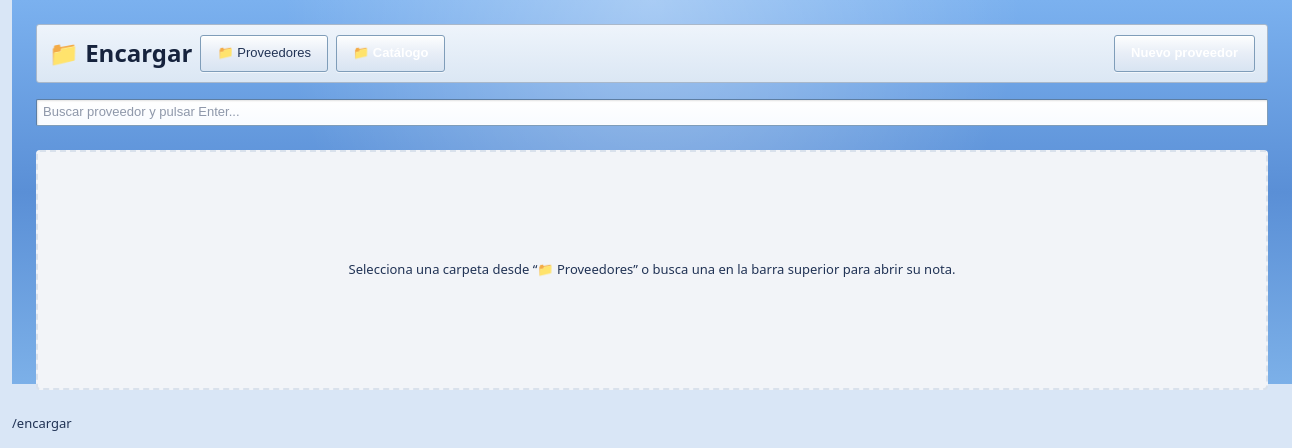
Test: Encargar flow routing › keeps multiple proveedores open at the same time
What coordinates should you click on to do the following:
click the button "📁 Proveedores"
I would click on:
 (264, 53)
Its box is [200,35,328,72].
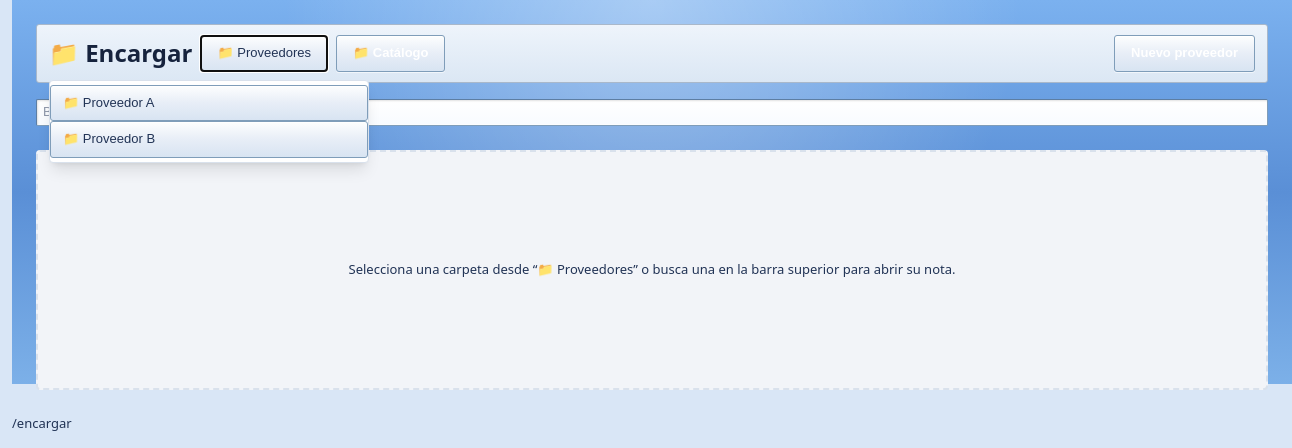
What coordinates should you click on to do the following:
click the menu item "📁 Proveedor A"
I would click on:
 (109, 102)
Its box is [50,85,368,121].
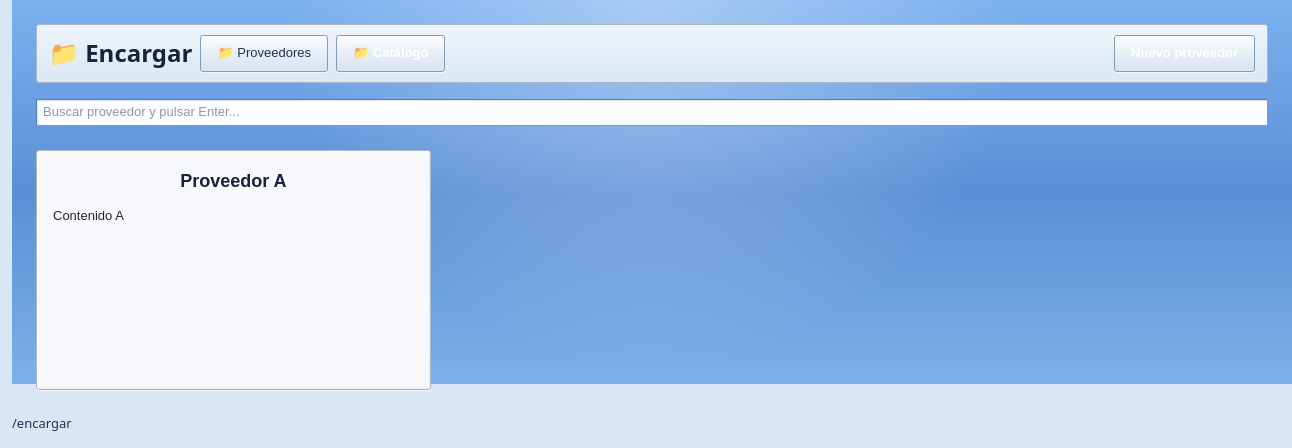
What coordinates should you click on to do the following:
click the button "📁 Proveedores"
I would click on:
 (264, 53)
Its box is [200,35,328,72].
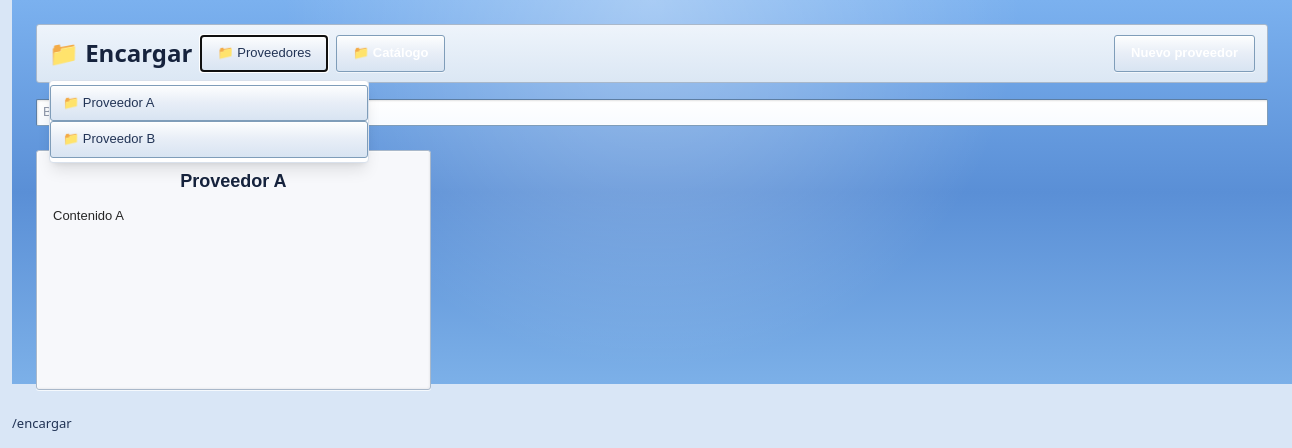
What coordinates should you click on to do the following:
click the menu item "📁 Proveedor B"
I would click on:
 (109, 139)
Its box is [50,121,368,158].
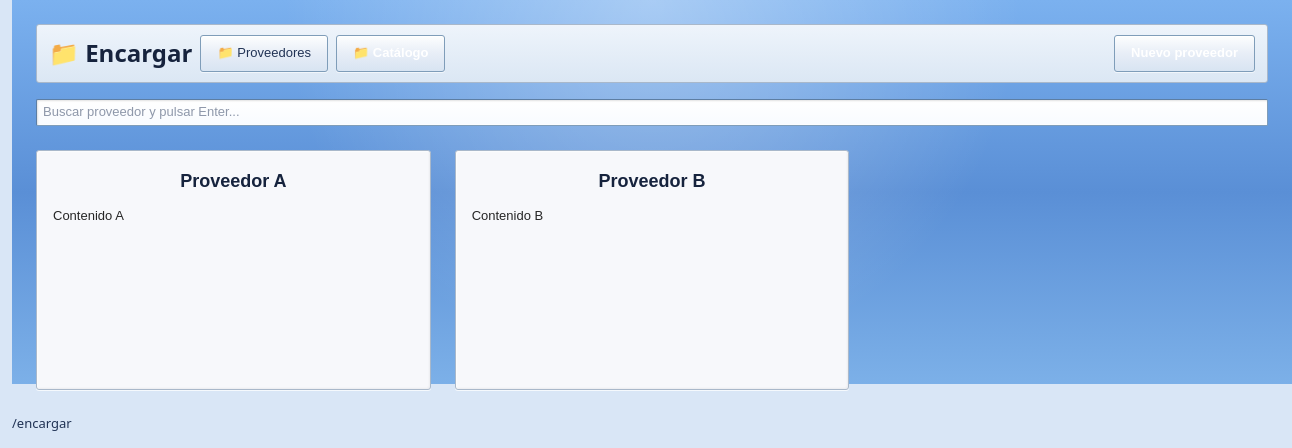
Expected: the text "Contenido A" is shown, [53,208,124,223]
Expected: the text "Contenido B" is shown, [472,208,543,223]
